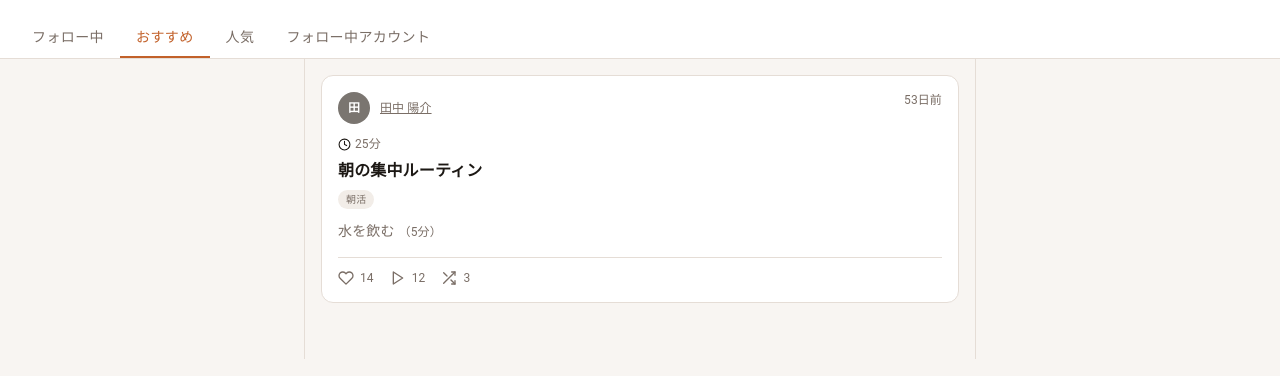
Test: RoutineFeedPage › タブ切替時に対応するタブ値をserviceへ渡す
Expected: the heading "朝の集中ルーティン" is shown, [338,161,482,180]
Click the tab "フォロー中" at (68, 37), box [16,16,120,58]
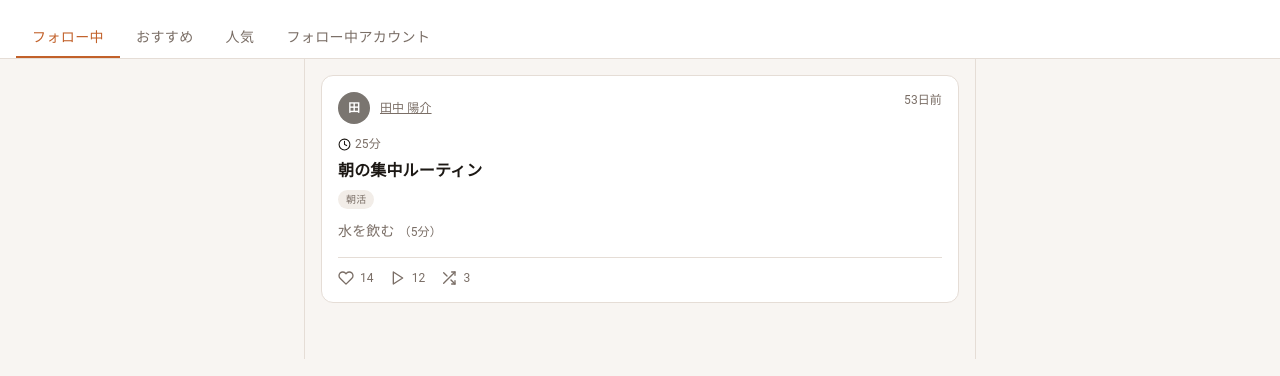
Click the tab "人気" at (240, 37), box [210,16,270,58]
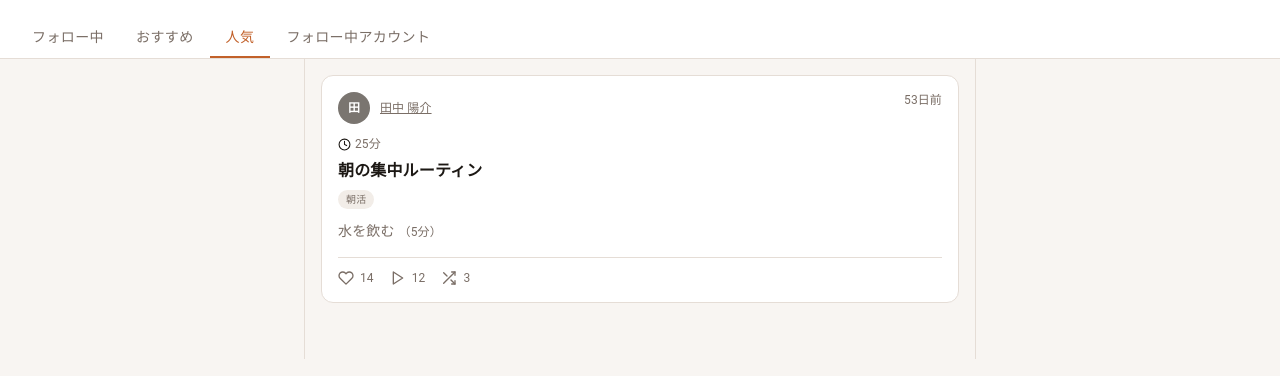
Click the tab "フォロー中アカウント" at (358, 37), box [270,16,446,58]
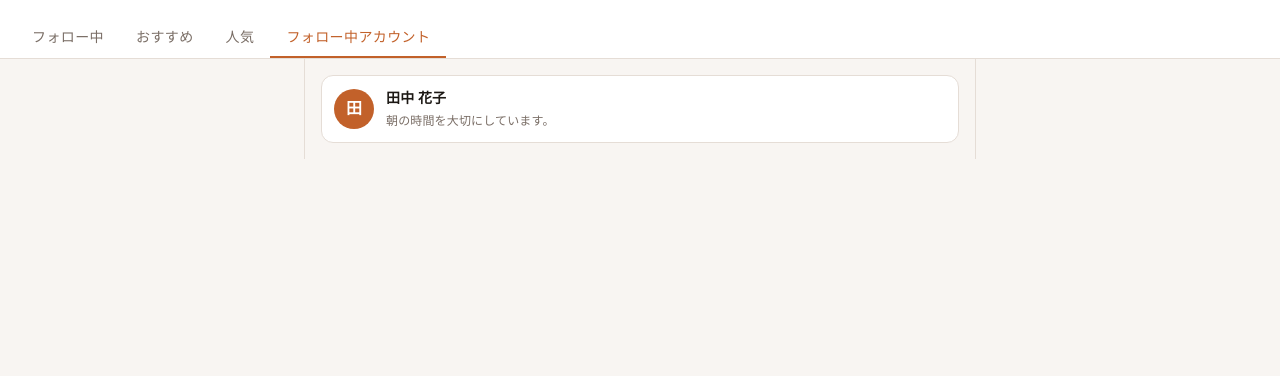
Now the text "田中 花子" is shown, box [386,90,446,106]
